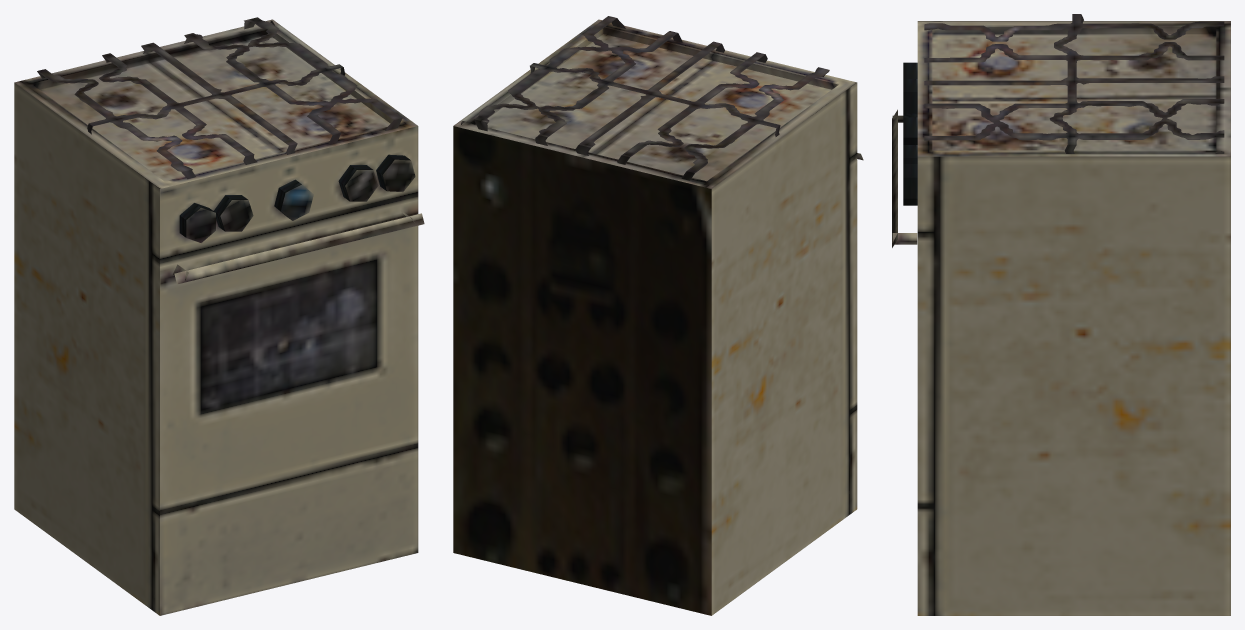
The model's file is CoocingMachine2.fbx.
3 renders of one model, left to right at view 1: azimuth 30°, elevation 25°; view 2: azimuth 150°, elevation 25°; view 3: azimuth 270°, elevation 25°, orthographic. The views are drawn at different scales.
Parts seen in each view (by area): view 1: Cooker1; view 2: Cooker1; view 3: Cooker1.
Part boxes in pixels (bbox=[...]): Cooker1: bbox=[14, 17, 424, 615]; Cooker1: bbox=[453, 16, 863, 615]; Cooker1: bbox=[892, 14, 1230, 615].
Bounding box in the file's own units: 74.91 × 121 × 79.07.
1 material, 1 textured.
